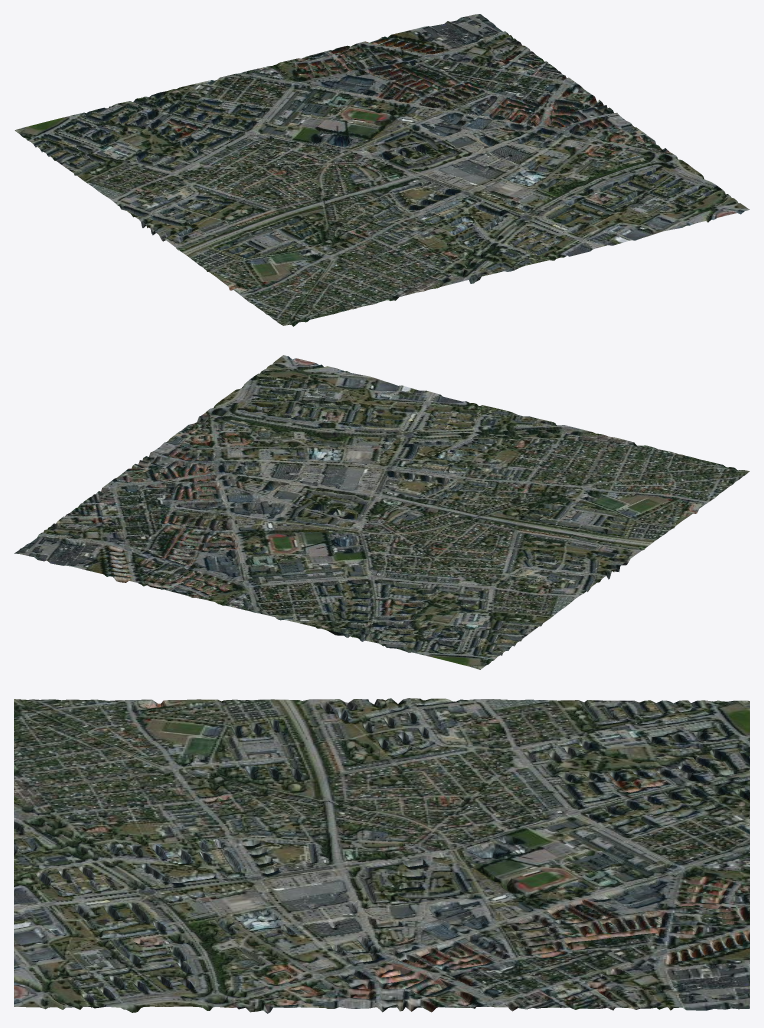
The model's file is map_10_249_425.dae.
The picture shows the model from 3 angles, top to bottom: view 1: azimuth 30°, elevation 25°; view 2: azimuth 150°, elevation 25°; view 3: azimuth 270°, elevation 25°; orthographic projection. The views are drawn at different scales.
Parts seen in each view (by area): view 1: Ter0; view 2: Ter0; view 3: Ter0.
Boxes of the visible parts, x1,y1,x2,y2 form: Ter0: (15, 14, 749, 326); Ter0: (14, 355, 749, 669); Ter0: (14, 698, 749, 1013).
Size of the model in its own units: 2044 by 2044 by 67.8.
3 materials, 3 textured.
